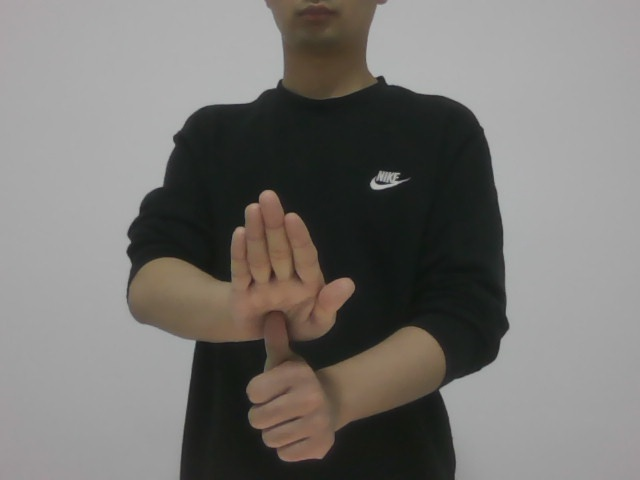love: (216, 184, 367, 462)
